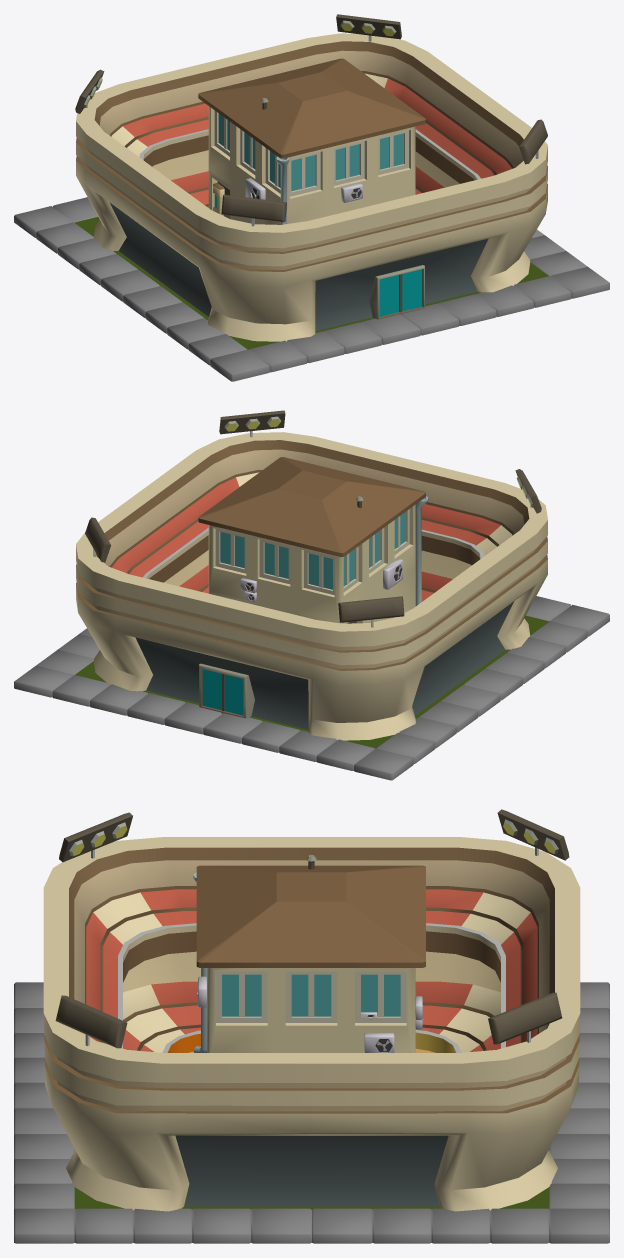
File: Buildings.fbx
The picture shows the model from 3 angles, top to bottom: view 1: azimuth 30°, elevation 25°; view 2: azimuth 150°, elevation 25°; view 3: azimuth 270°, elevation 25°; orthographic projection. The views are drawn at different scales.
Visible parts, largest first — view 1: Stadium4, CivilianHOUSE, Stadium_plain, Stadium3, Stadium1, Stadium2; view 2: Stadium1, CivilianHOUSE, Stadium_plain, Stadium2, Stadium4, Stadium3; view 3: Stadium2, Stadium3, CivilianHOUSE, Stadium_plain, Stadium1, Stadium4.
Part boxes in pixels (<box>): Stadium4: <box>141,171,410,341</box>; CivilianHOUSE: <box>198,58,425,224</box>; Stadium_plain: <box>14,197,609,381</box>; Stadium3: <box>399,91,547,314</box>; Stadium1: <box>75,61,226,284</box>; Stadium2: <box>214,14,481,194</box>; Stadium1: <box>213,569,482,740</box>; CivilianHOUSE: <box>198,457,428,623</box>; Stadium_plain: <box>14,596,609,780</box>; Stadium2: <box>76,490,224,713</box>; Stadium4: <box>397,460,547,683</box>; Stadium3: <box>142,410,409,593</box>; Stadium2: <box>312,950,580,1211</box>; Stadium3: <box>43,950,311,1211</box>; CivilianHOUSE: <box>193,855,425,1052</box>; Stadium_plain: <box>14,982,609,1243</box>; Stadium1: <box>312,809,580,1052</box>; Stadium4: <box>43,812,311,1052</box>.
Bounding box in the file's own units: 20 × 9 × 20.
